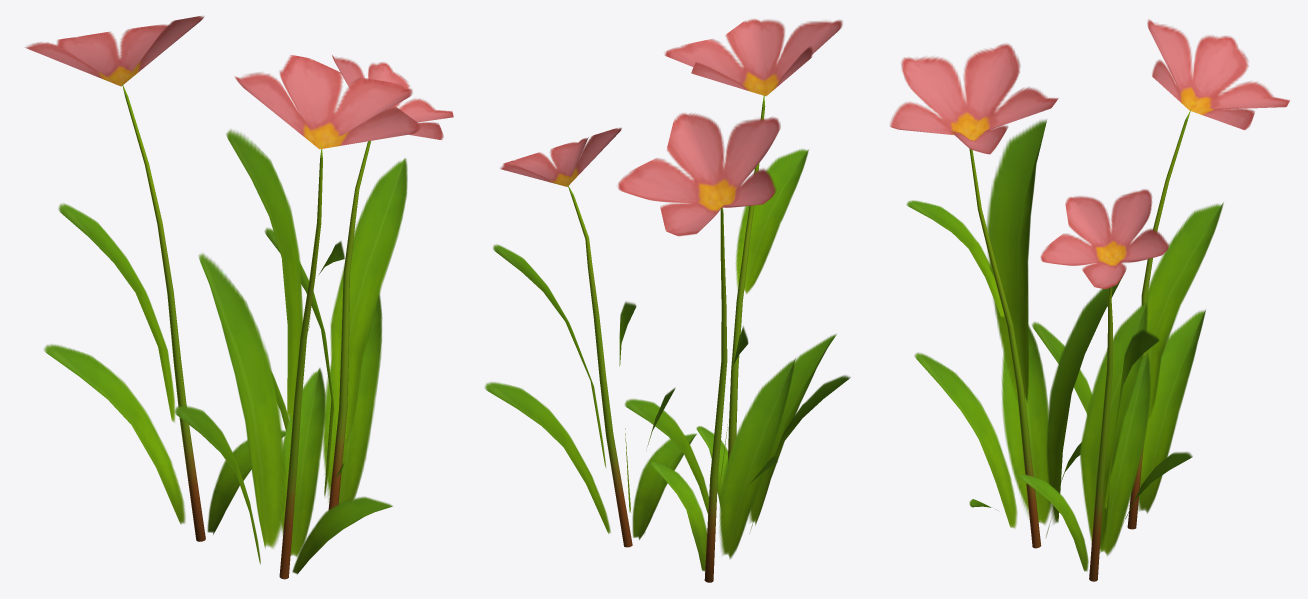
Rendered from flower-group-1.glb.
The picture shows the model from 3 angles, left to right: view 1: azimuth 30°, elevation 25°; view 2: azimuth 150°, elevation 25°; view 3: azimuth 270°, elevation 25°; orthographic projection. The views are drawn at different scales.
Visible parts, largest first — view 1: Flower_3_Group; view 2: Flower_3_Group; view 3: Flower_3_Group.
Boxes of the visible parts, <box> form: Flower_3_Group: <box>25,16,453,579</box>; Flower_3_Group: <box>485,19,850,582</box>; Flower_3_Group: <box>890,19,1289,581</box>.
Bounding box in the file's own units: 1.49 × 2.05 × 1.59.
Materials: 2 (2 with a texture image).
